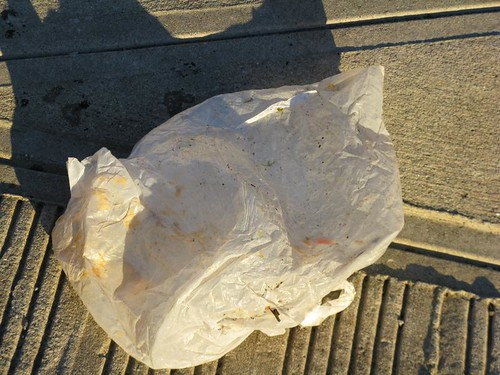plastic bag: (50, 63, 406, 370)
